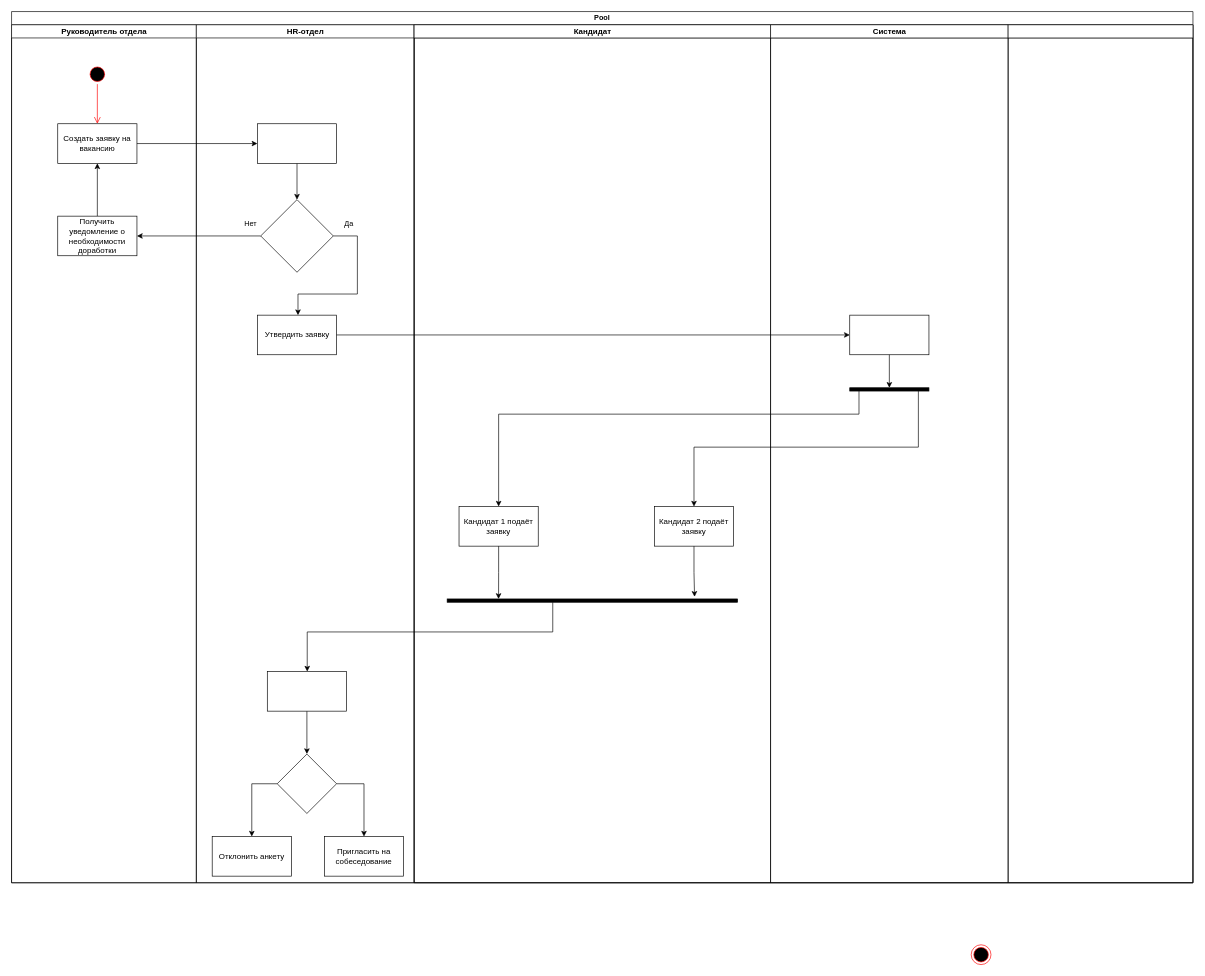
The diagram is 1205 pixels wide and 976 high, and some of its shapes have lost their labels. Here are the shapes that lost their labels. From the top down, the centre of each, then its label:
At pixel 297 143: "Проверить заявку".
At pixel 296 235: "Заявка соответствует требованиям?".
At pixel 889 334: "Опубликовать вакансию".
At pixel 1100 453: "IT‑отдел".
At pixel 306 691: "Проверить анкеты кандидатов".
At pixel 307 783: "Анкета подходит?".
